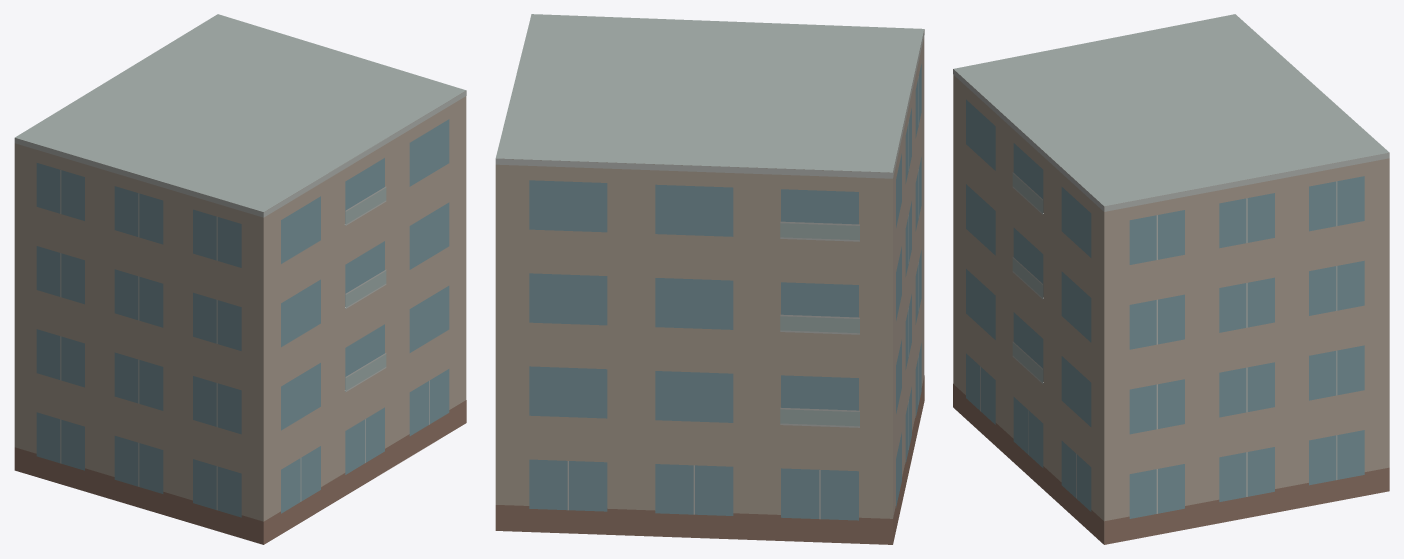
Rendered from survey-upis-32990607.glb.
3 renders of one model, left to right at view 1: azimuth 30°, elevation 25°; view 2: azimuth 150°, elevation 25°; view 3: azimuth 270°, elevation 25°, orthographic. The views are drawn at different scales.
Parts seen in each view (by area): view 1: survey-upis-32990607.tmp; view 2: survey-upis-32990607.tmp; view 3: survey-upis-32990607.tmp.
Boxes of the visible parts, bbox=[...] form: survey-upis-32990607.tmp: bbox=[14, 14, 466, 544]; survey-upis-32990607.tmp: bbox=[495, 14, 924, 544]; survey-upis-32990607.tmp: bbox=[953, 14, 1389, 544].
Size of the model in its own units: 17.86 by 14.65 by 17.13.
